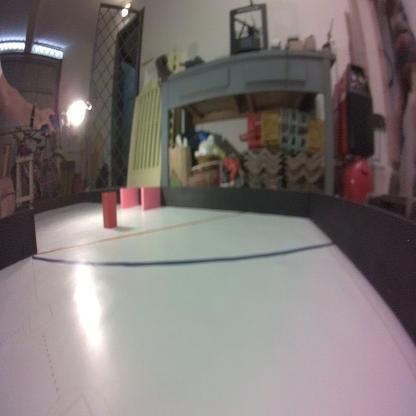magenta: (140, 184, 163, 216), (119, 186, 141, 212)
red: (101, 189, 116, 229)
